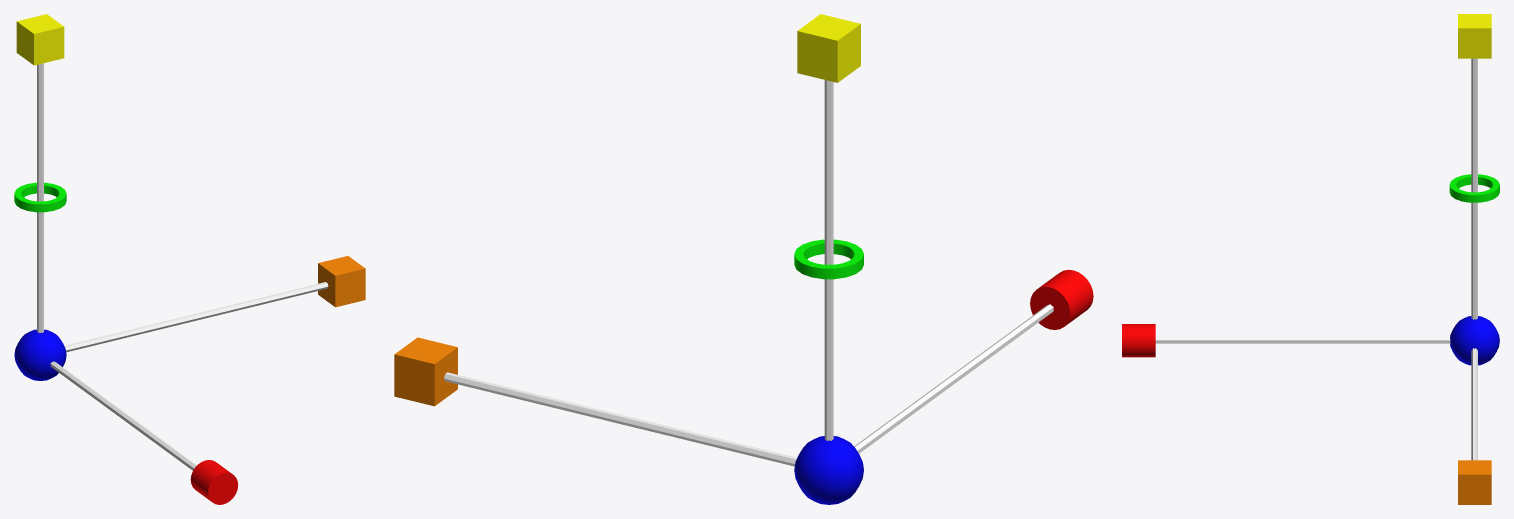
File: controller.fbx
3 views of the same model, side by side, from view 1: azimuth 30°, elevation 25°; view 2: azimuth 150°, elevation 25°; view 3: azimuth 270°, elevation 25° (orthographic). The views are drawn at different scales.
Visible parts, largest first — view 1: scale-menu, x, translate, scale-drag, y, remove, z, rotate; view 2: translate, scale-menu, x, scale-drag, y, remove, z, rotate; view 3: z, translate, y, scale-drag, scale-menu, remove, rotate, x.
Part boxes in pixels (x1=…): scale-menu: x1=16, y1=14, x2=64, y2=65; x: x1=64, y1=282, x2=328, y2=352; translate: x1=14, y1=329, x2=66, y2=380; scale-drag: x1=318, y1=256, x2=365, y2=307; y: x1=37, y1=63, x2=43, y2=332; remove: x1=190, y1=460, x2=238, y2=504; z: x1=50, y1=361, x2=196, y2=470; rotate: x1=14, y1=182, x2=66, y2=212; translate: x1=794, y1=436, x2=863, y2=504; scale-menu: x1=797, y1=14, x2=860, y2=82; x: x1=444, y1=372, x2=796, y2=466; scale-drag: x1=394, y1=337, x2=457, y2=406; y: x1=824, y1=80, x2=833, y2=440; remove: x1=1030, y1=269, x2=1093, y2=329; z: x1=854, y1=304, x2=1053, y2=453; rotate: x1=794, y1=239, x2=863, y2=279; z: x1=1155, y1=337, x2=1450, y2=343; translate: x1=1450, y1=316, x2=1499, y2=365; y: x1=1471, y1=58, x2=1477, y2=319; scale-drag: x1=1458, y1=460, x2=1491, y2=504; scale-menu: x1=1458, y1=14, x2=1491, y2=58; remove: x1=1122, y1=324, x2=1155, y2=357; rotate: x1=1449, y1=174, x2=1499, y2=202; x: x1=1471, y1=348, x2=1477, y2=460.
Size of the model in its own units: 11.25 by 11.25 by 11.25.
